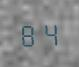eight: (19, 20, 38, 47)
four: (39, 20, 58, 46)
